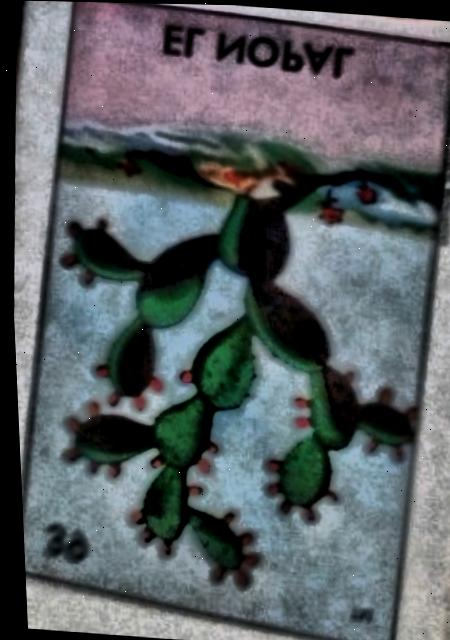El Nopal: (18, 1, 450, 640)
